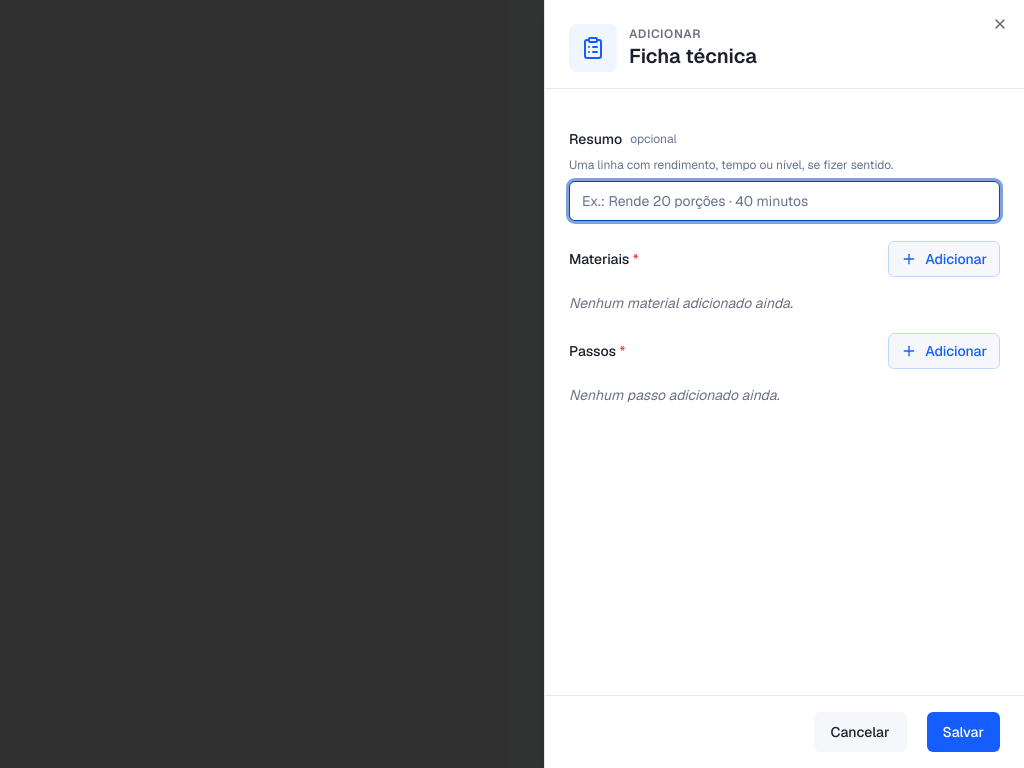
ContentBlockDrawer › fills an image field from the illustration library
The image size is (1024, 768).
Click the button "Adicionar" in the row of "Materiais" at (944, 259), box top-left (888, 241), bottom-right (1000, 277)
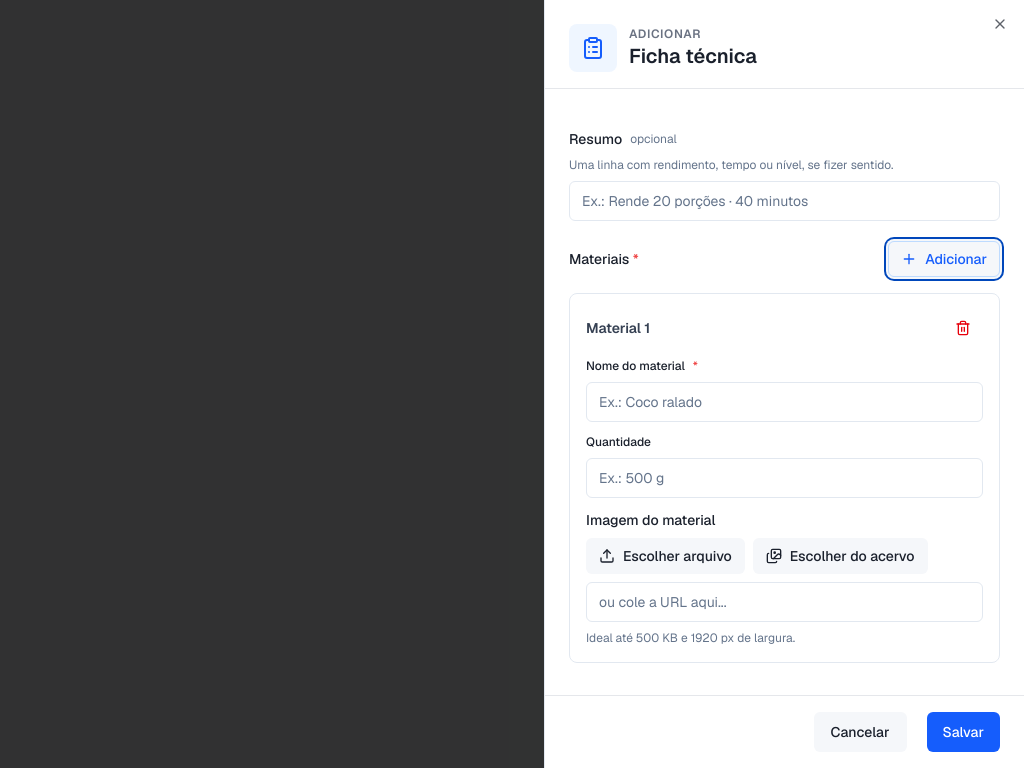
Click the button "Escolher do acervo" at (840, 556), box top-left (753, 538), bottom-right (928, 574)
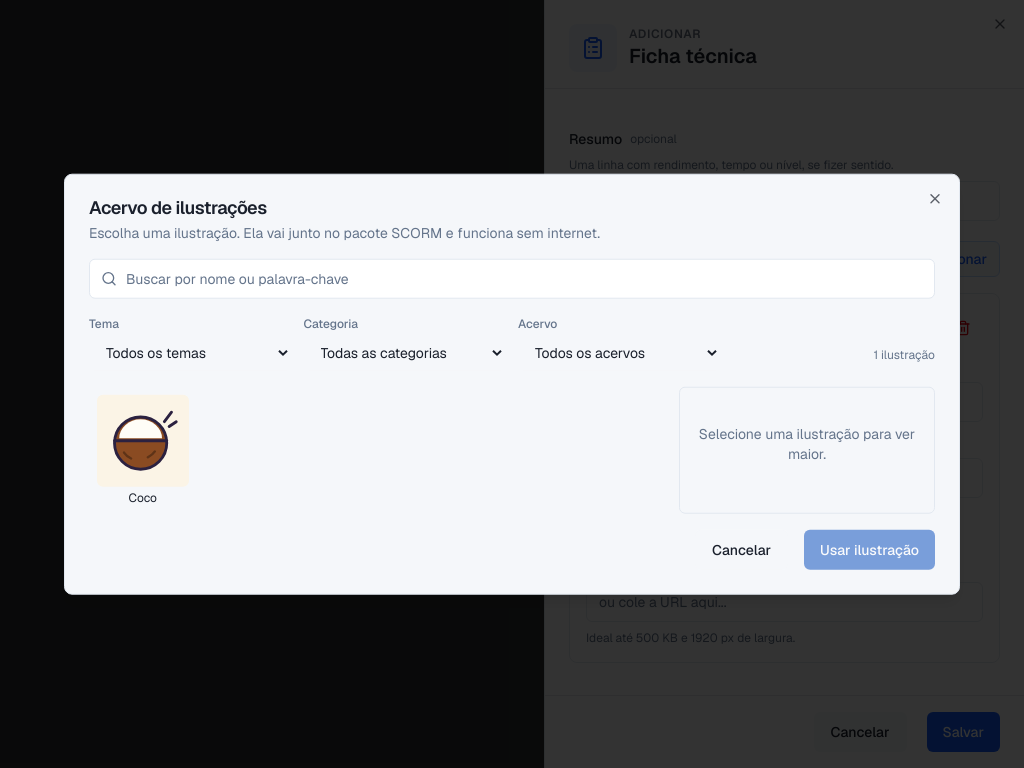
Click the button "Coco" at (143, 450), box top-left (89, 387), bottom-right (197, 513)
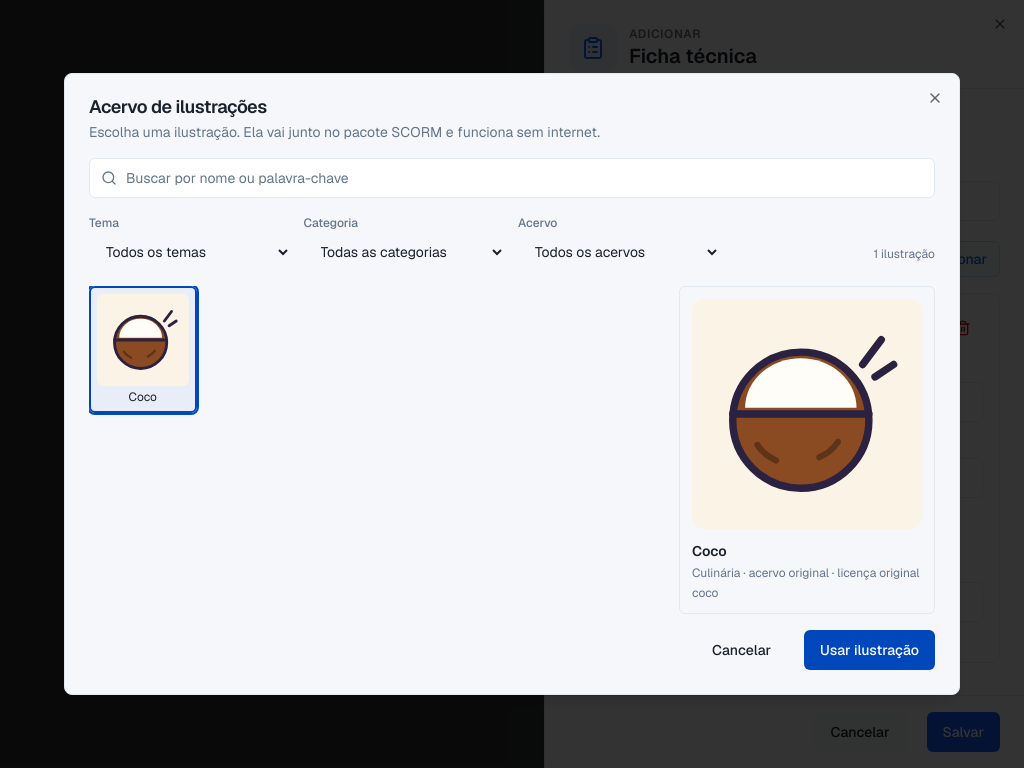
Click the button "Usar ilustração" at (870, 650), box top-left (804, 630), bottom-right (935, 670)
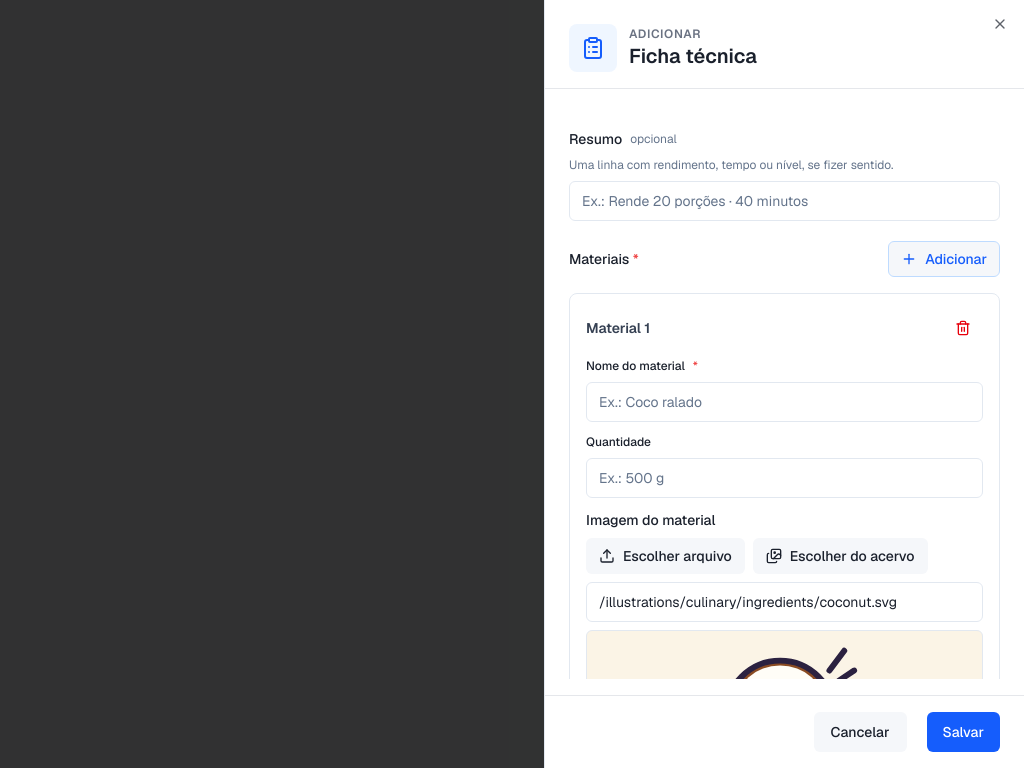
Expected: the field showing "/illustrations/culinary/ingredients/coconut.svg" is shown, top-left (586, 582), bottom-right (983, 622)
Expected: the button "Usar ilustração" is gone
